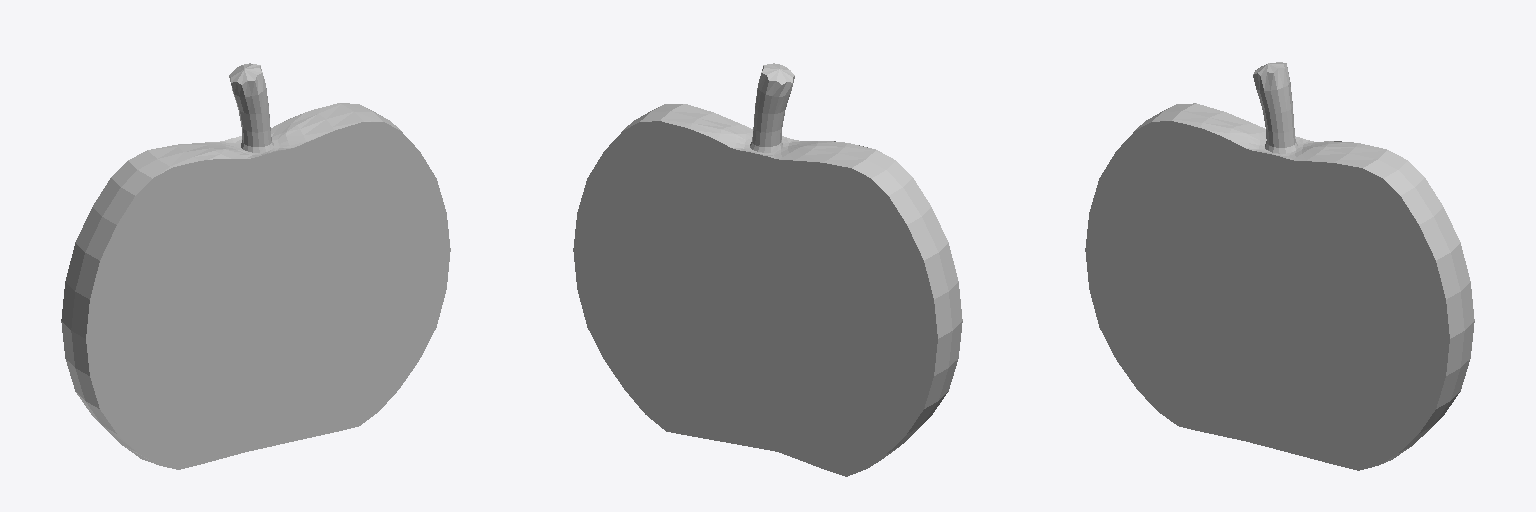
File: apple_slice_05.obj
3 renders of one model, left to right at view 1: azimuth 30°, elevation 25°; view 2: azimuth 150°, elevation 25°; view 3: azimuth 330°, elevation 25°, orthographic.
Parts seen in each view (by area): view 1: Apple.Slices.001_Sphere.002; view 2: Apple.Slices.001_Sphere.002; view 3: Apple.Slices.001_Sphere.002.
Part boxes in pixels (x1,y1,x2,y2): Apple.Slices.001_Sphere.002: (61, 63, 450, 469); Apple.Slices.001_Sphere.002: (573, 63, 962, 476); Apple.Slices.001_Sphere.002: (1085, 62, 1474, 470).
Size of the model in its own units: 1.91 by 1.88 by 0.2212.